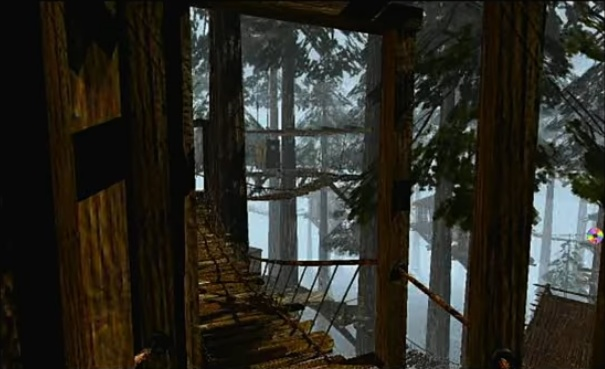Waiting: (583, 224, 604, 245)
